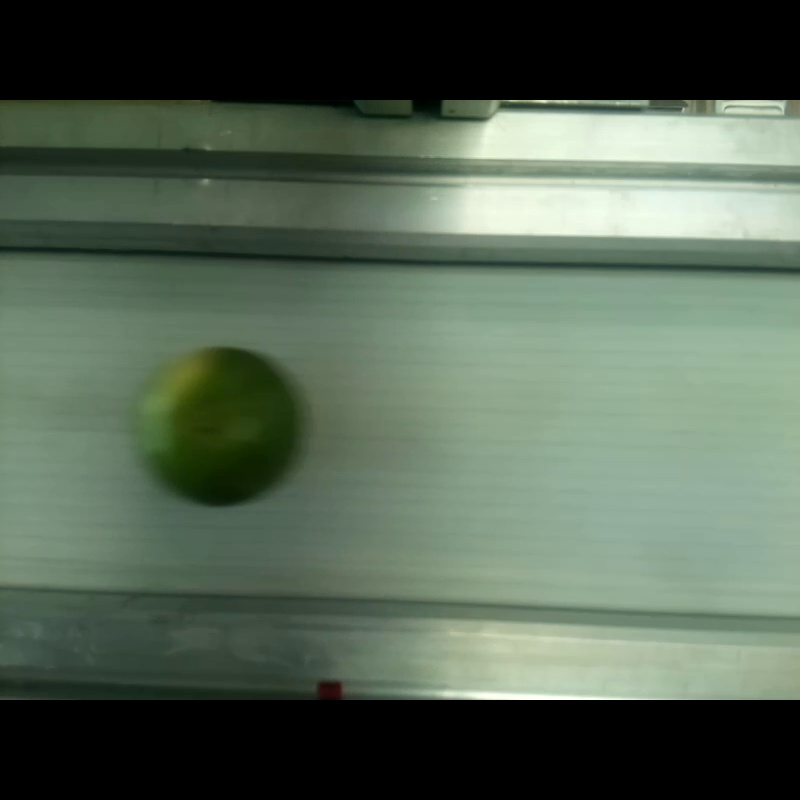lime: (140, 349, 296, 502)
